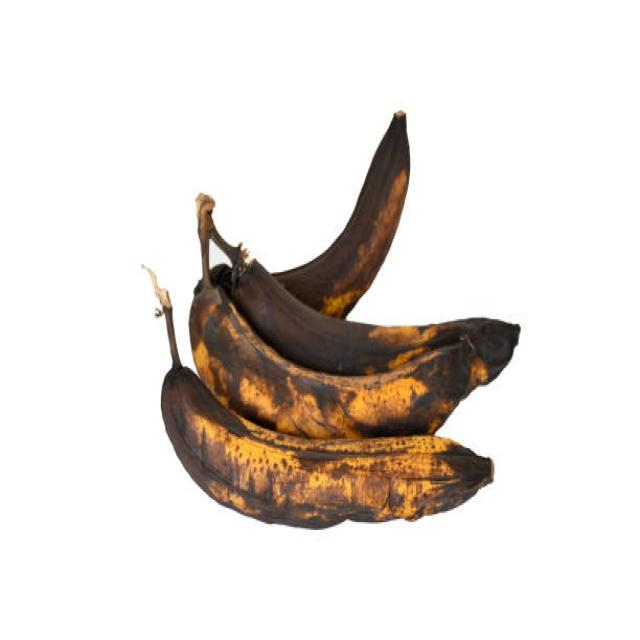Rotten: (160, 353, 495, 530)
